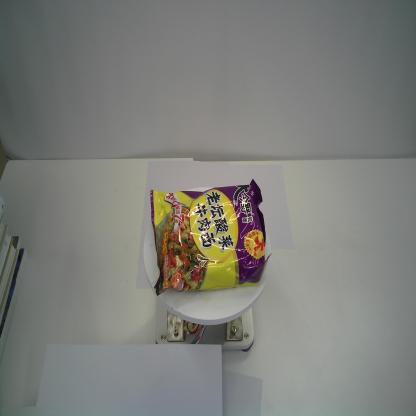Instant Noodles: (150, 177, 272, 298)
